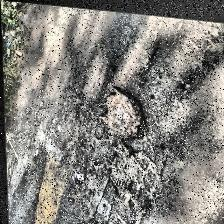pothole: (96, 80, 148, 150)
